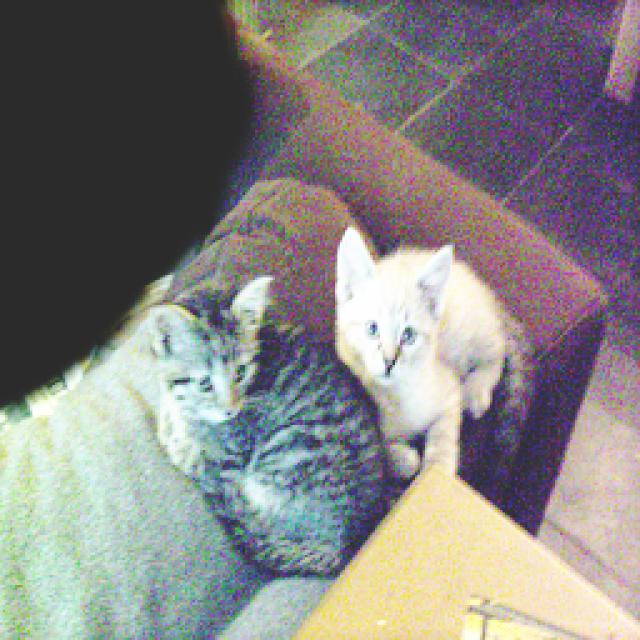cat: (144, 277, 386, 573), (333, 223, 509, 483)
